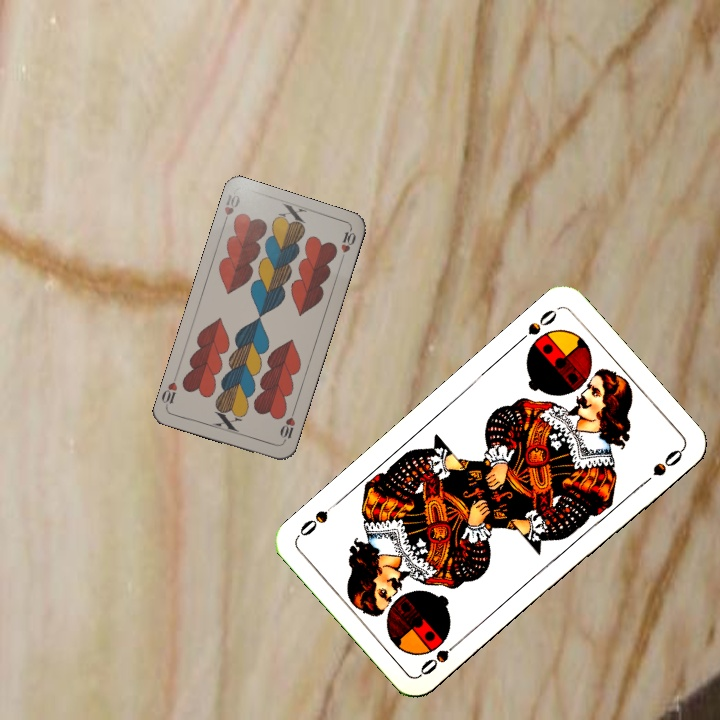H10: (217, 190, 243, 229), (276, 406, 298, 446)
SO: (415, 634, 466, 678), (512, 305, 560, 347)
